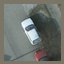car: (19, 17, 42, 45)
